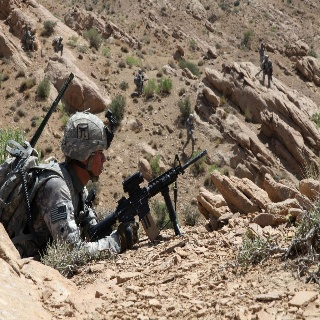rifle: (84, 147, 214, 240)
